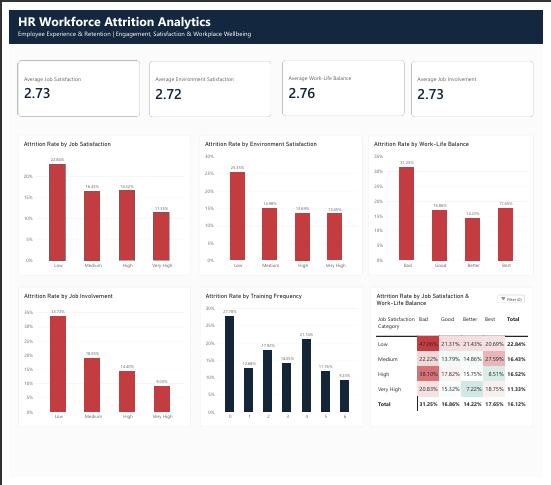

Layout of this report page (visuals, bound fields, positions):
{"tool":"powerbi","page":{"name":"Employee Experience & Retention","canvas":[1600,1400],"ordinal":3},"visuals":[{"type":"shape","box":[0,0,1600.2,100.8],"z":0},{"type":"textbox","box":[24,8,1200,50],"z":1000}]}

Visuals, with their boxes in screenshot pixels (x1, y1, x2, y2), scaled from the page's 1600x1400 canvas onto the 551x485 screenshot:
shape: (0, 0, 550, 35)
textbox: (8, 3, 422, 20)
